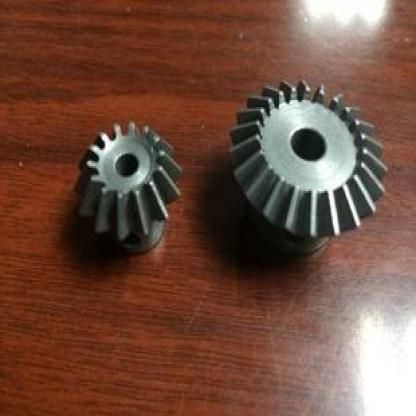FOD: (225, 72, 387, 242), (71, 118, 183, 261)
